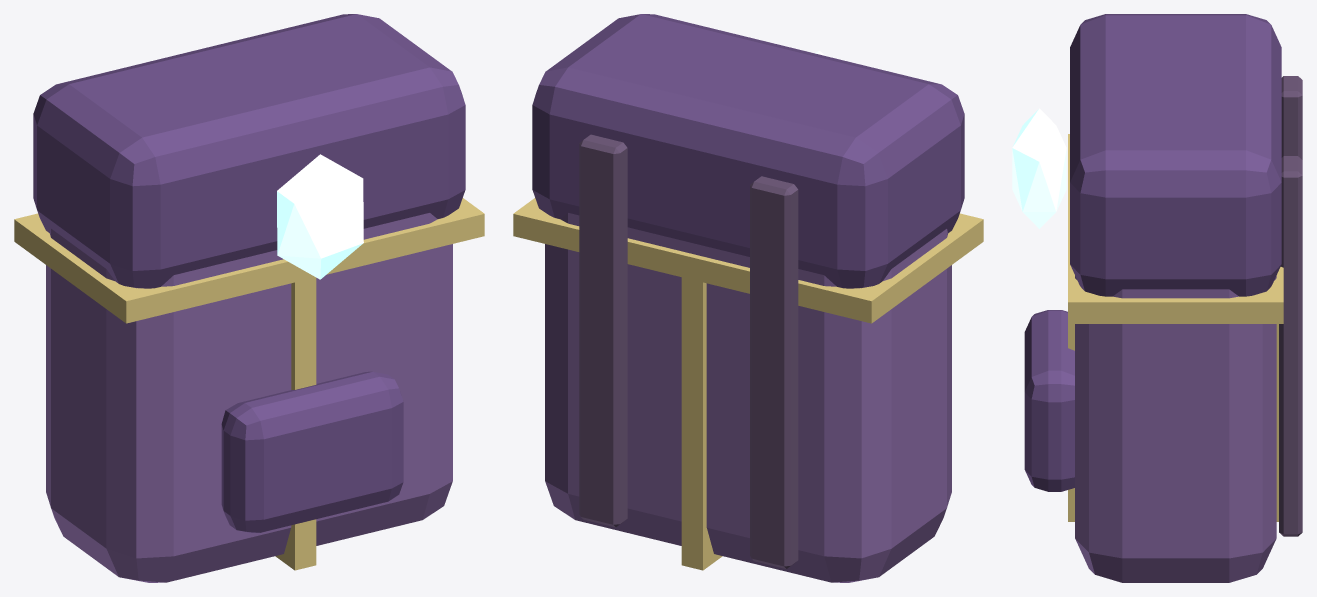
The model's file is backpack_magic.glb.
3 views of the same model, side by side, from view 1: azimuth 30°, elevation 25°; view 2: azimuth 150°, elevation 25°; view 3: azimuth 270°, elevation 25° (orthographic). The views are drawn at different scales.
Visible parts, largest first — view 1: backpack_magic; view 2: backpack_magic; view 3: backpack_magic.
Boxes of the visible parts, x1,y1,x2,y2 form: backpack_magic: [14, 14, 484, 582]; backpack_magic: [513, 14, 983, 582]; backpack_magic: [1012, 14, 1302, 582].
Bounding box in the file's own units: 0.336 × 0.408 × 0.245.
